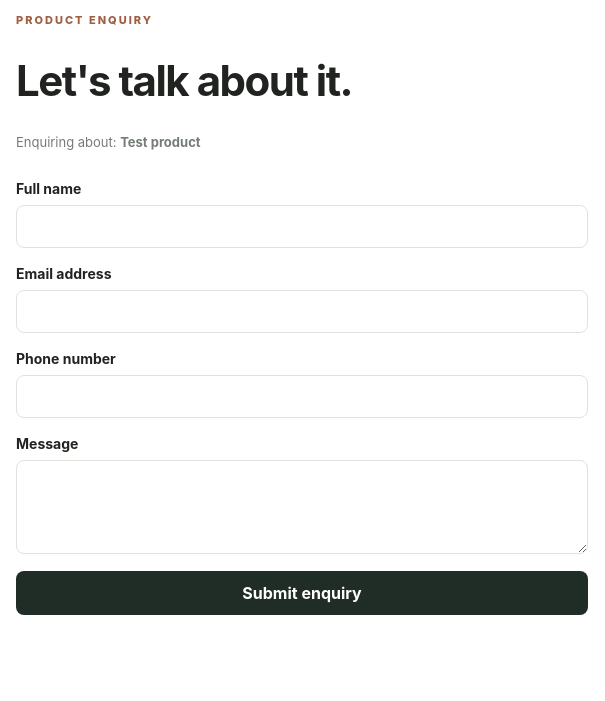
Test: Enquiry feature › shows a retryable error when the API rejects the enquiry
Step 1. Type "Taylor Example" into the field labelled "Full name" → (302, 227), box [16, 205, 588, 248]
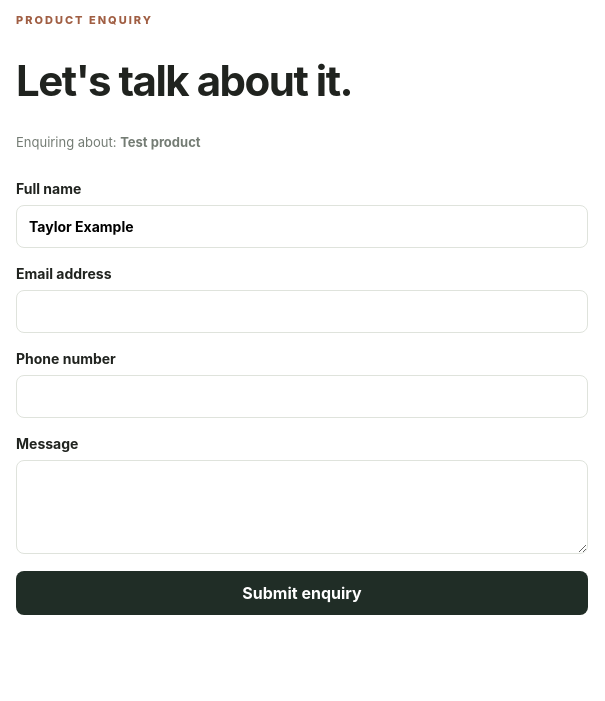
Step 2. Type "taylor@example.test" into the field labelled "Email address" → (302, 312), box [16, 290, 588, 333]
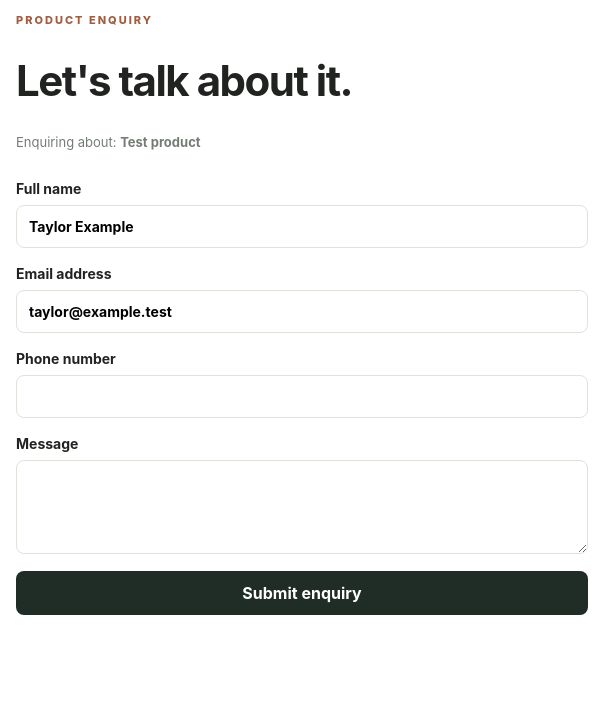
Step 3. Type "+1 555 123 4567" into the field labelled "Phone number" → (302, 397), box [16, 375, 588, 418]
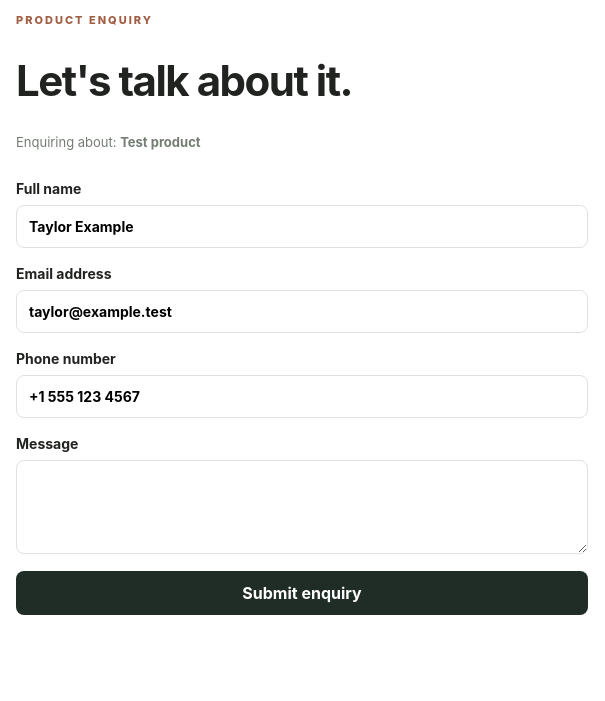
Step 4. Type "Please send me more information." into the text box labelled "Message" → (302, 507), box [16, 460, 588, 554]
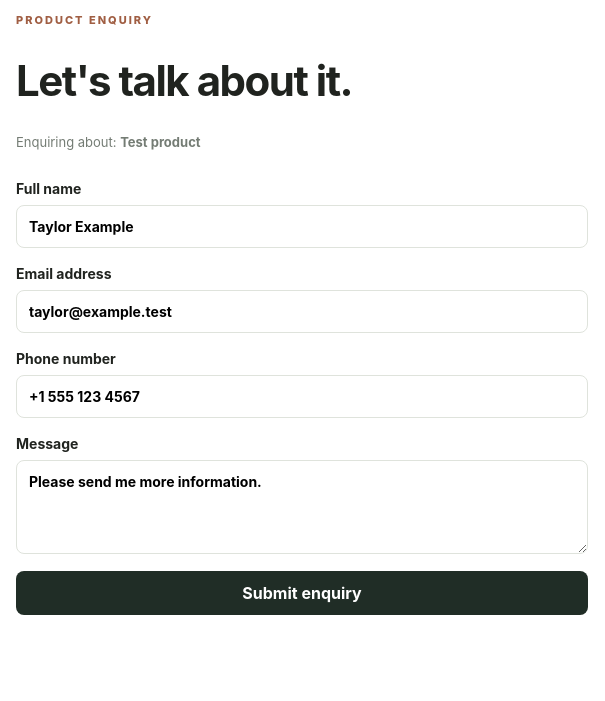
Step 5. Click the button "Submit enquiry" → (302, 593), box [16, 571, 588, 615]
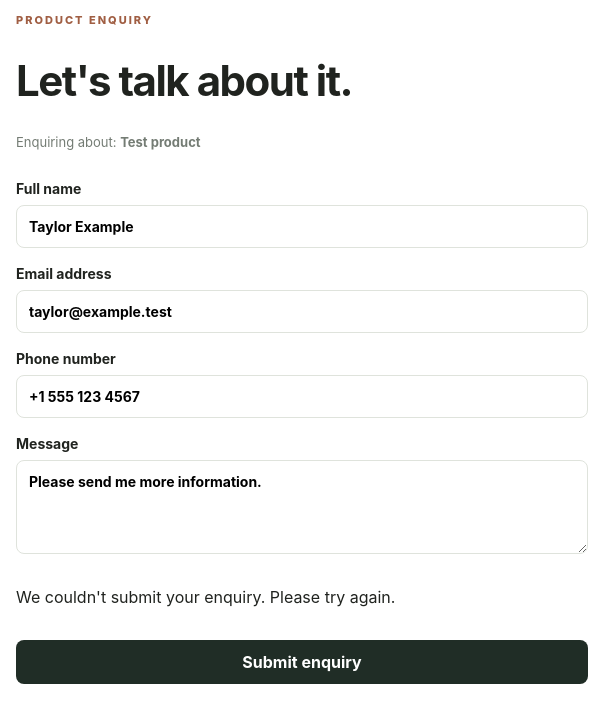
Expected: the message reads "We couldn't submit your enquiry. Please try again.", [16, 587, 395, 607]
